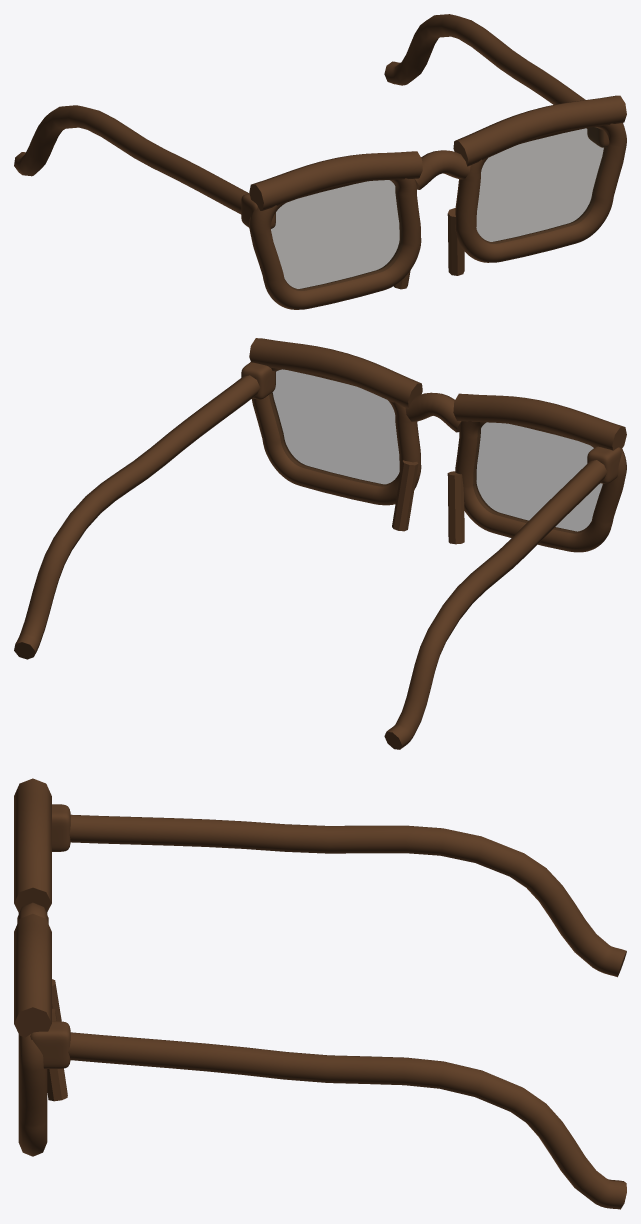
The model's file is wayfarer-tortoise.glb.
The picture shows the model from 3 angles, top to bottom: view 1: azimuth 30°, elevation 25°; view 2: azimuth 150°, elevation 25°; view 3: azimuth 270°, elevation 25°; orthographic projection. The views are drawn at different scales.
Visible parts, largest first — view 1: frame_primary, lens_tint; view 2: frame_primary, lens_tint; view 3: frame_primary.
Part boxes in pixels (left/top/right/bottom): frame_primary: left=14, top=14, right=626, bottom=309; lens_tint: left=271, top=127, right=607, bottom=290; frame_primary: left=14, top=338, right=626, bottom=749; lens_tint: left=269, top=369, right=602, bottom=533; frame_primary: left=14, top=778, right=626, bottom=1209.
Size of the model in its own units: 0.14 by 0.0544 by 0.1456.
